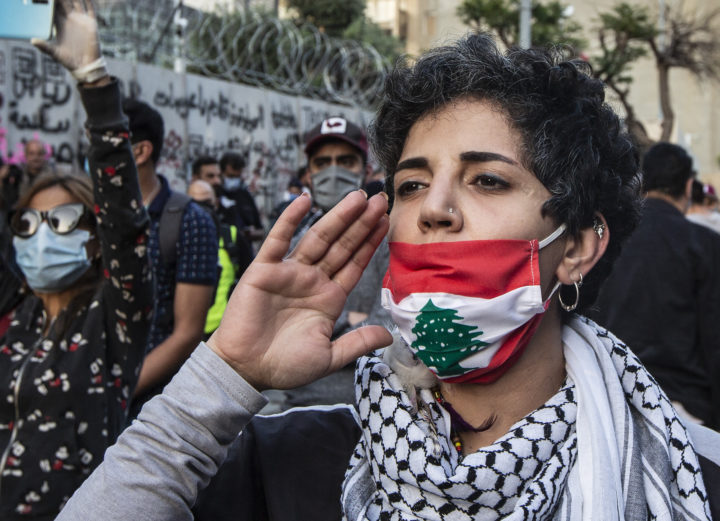with_incorrect_mask: (389, 141, 528, 336)
